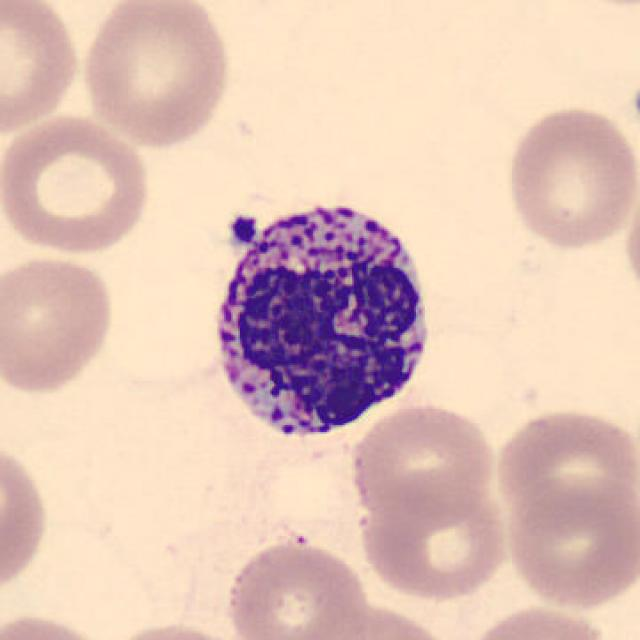Basophil: (196, 182, 444, 458)
RBC: (74, 0, 234, 150), (0, 111, 155, 257), (502, 100, 638, 254), (354, 474, 514, 603), (346, 398, 499, 524), (502, 471, 638, 612), (491, 404, 636, 527), (0, 251, 119, 398), (222, 537, 371, 640), (0, 0, 84, 138), (0, 433, 53, 603), (290, 599, 455, 640), (462, 601, 614, 640), (0, 608, 119, 640), (98, 619, 249, 640), (620, 174, 640, 308), (548, 0, 638, 16)
